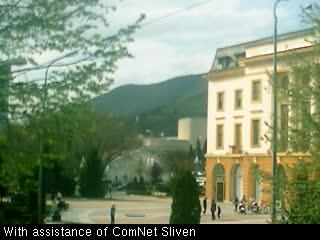person: (247, 194, 256, 215), (231, 196, 240, 214), (109, 201, 116, 224), (209, 199, 216, 220), (202, 196, 209, 214), (106, 184, 113, 200), (241, 195, 247, 213), (216, 204, 222, 218), (56, 191, 63, 203), (50, 190, 56, 203)
